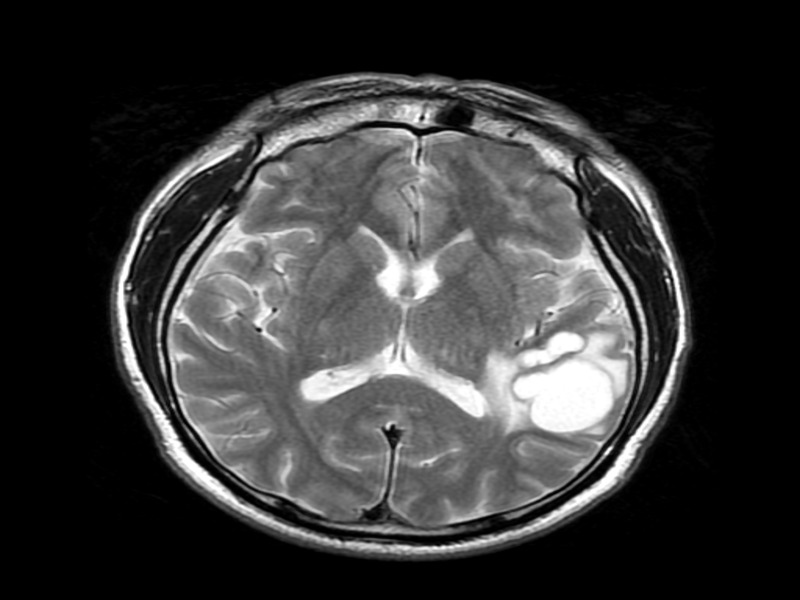tumor: (509, 327, 619, 439)
